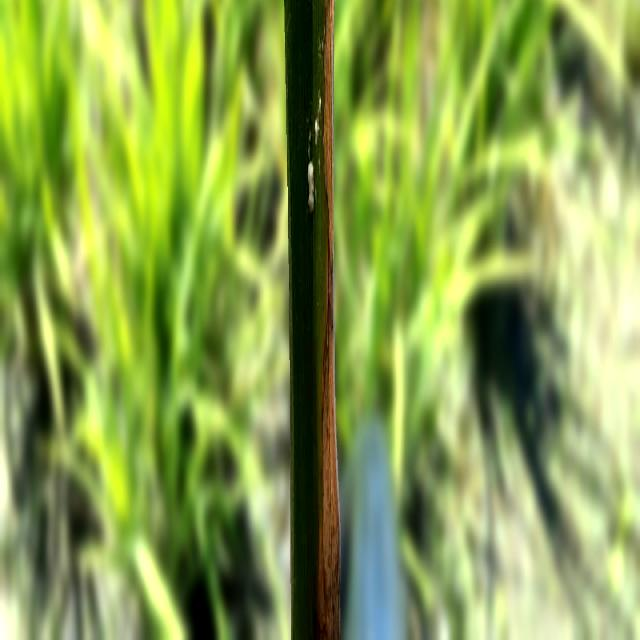BLB: (313, 0, 340, 639)
